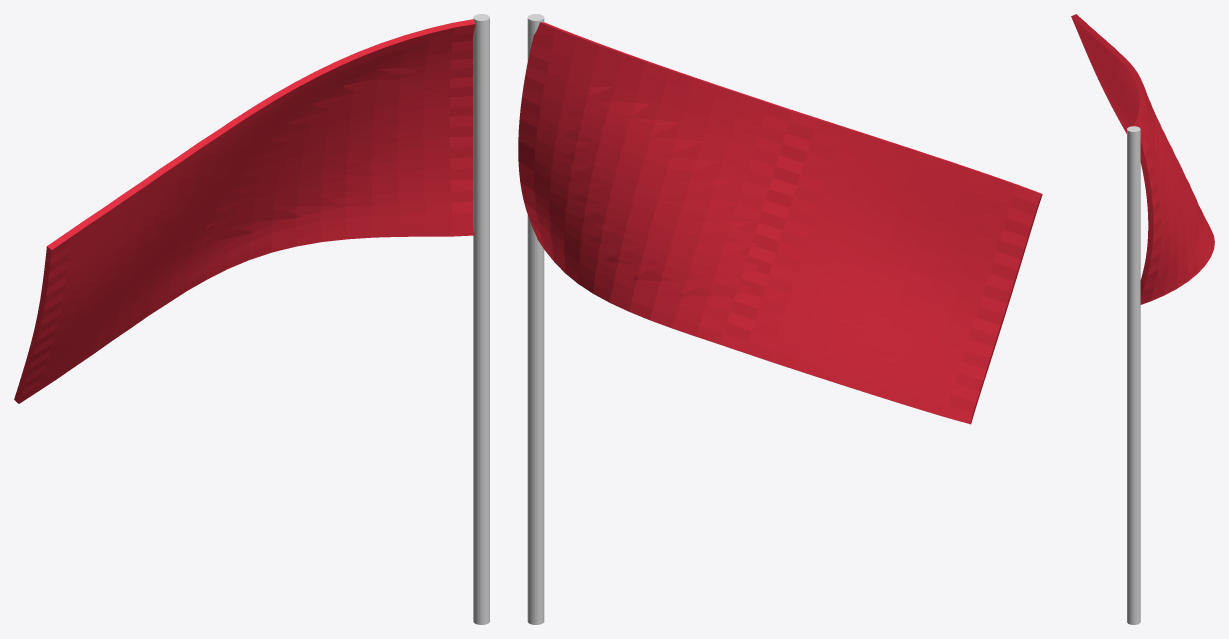
File: Flaga_Stojoca.fbx
The picture shows the model from 3 angles, left to right: view 1: azimuth 30°, elevation 25°; view 2: azimuth 150°, elevation 25°; view 3: azimuth 270°, elevation 25°; orthographic projection. The views are drawn at different scales.
Visible parts, largest first — view 1: Plane; view 2: Plane; view 3: Plane.
Boxes of the visible parts, <box> form: Plane: <box>14,14,489,624</box>; Plane: <box>518,14,1042,624</box>; Plane: <box>1071,14,1214,624</box>.
Size of the model in its own units: 842 by 1018 by 269.
